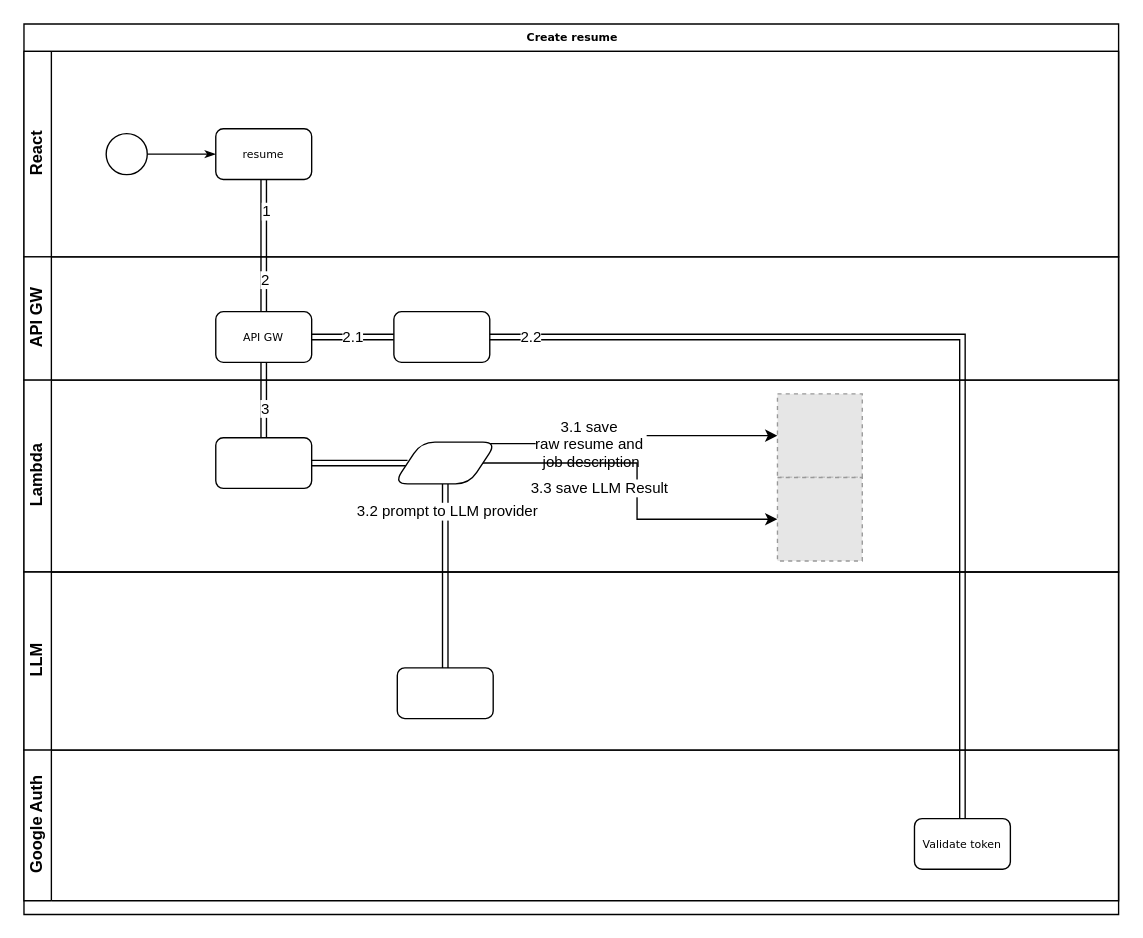
Some shapes in this 1143 by 938 pixel diagram are drawn without their labels. Grey dashed boxes stand in for pictures. Each missing label, with the centre of its shape:
Authenticator: pixel 441 336
Generate resume: pixel 263 462
LLM service: pixel 444 693
service: pixel 445 462
User: pixel 126 153
